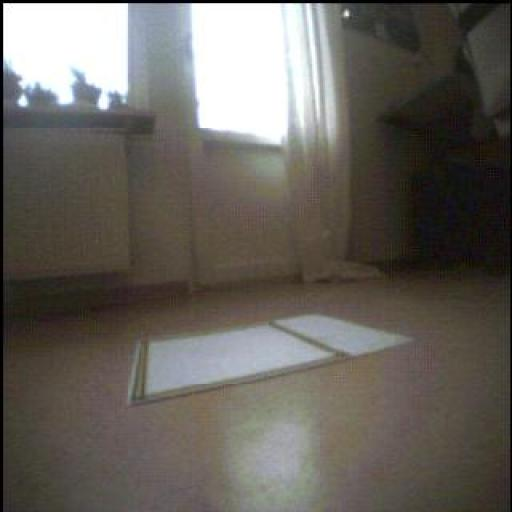Pad: (131, 316, 411, 404)
